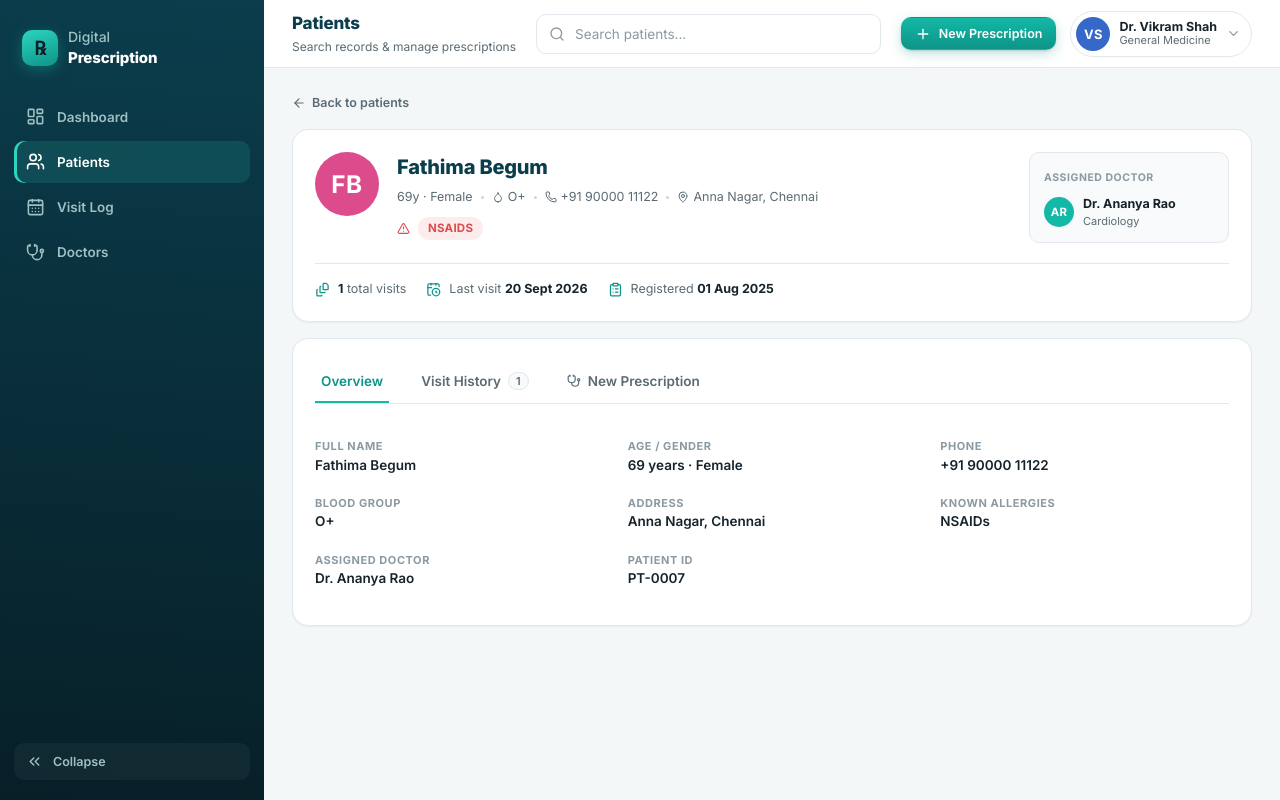
Test case: PatientDetailPage › validates the prescription before saving
Click the tab "New Prescription".
click(633, 382)  # box [561,360,706,402]
(page scrolled)
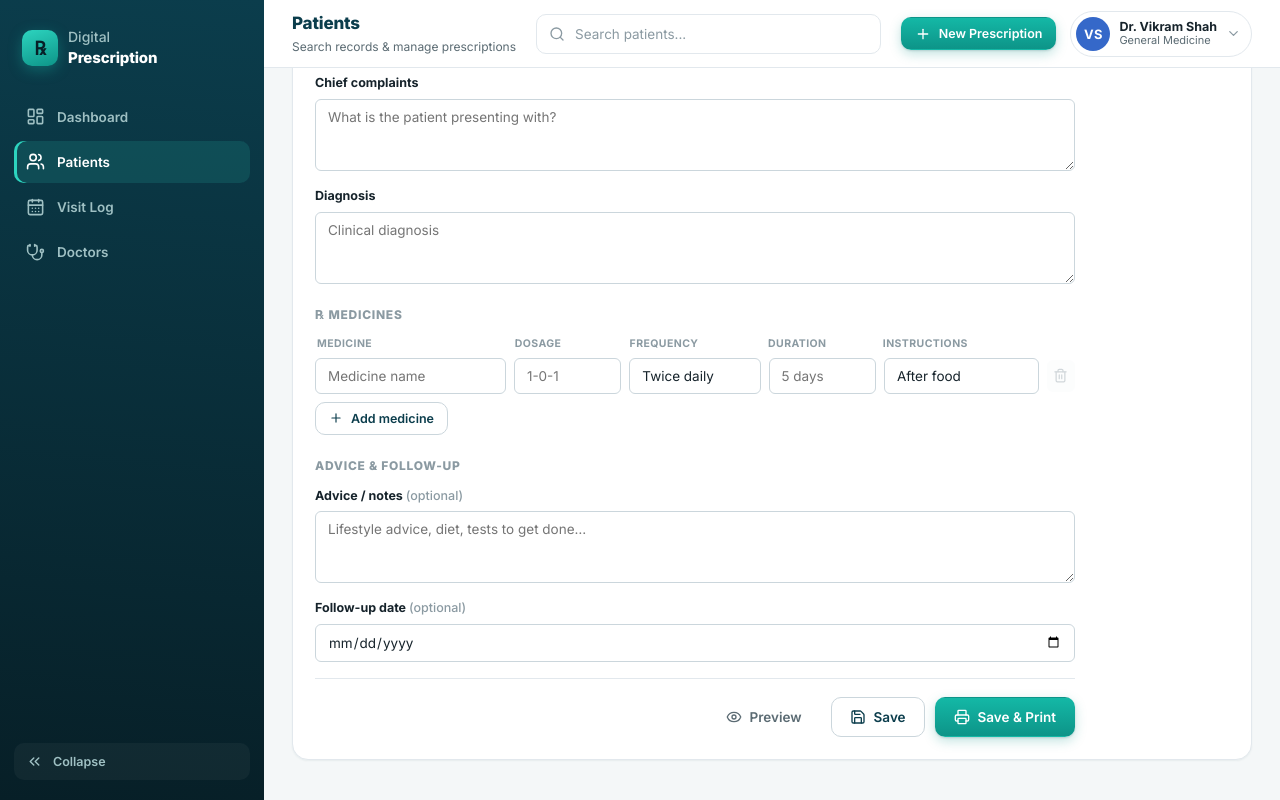
Click the button "Save".
click(878, 717)  # box [831,697,925,737]
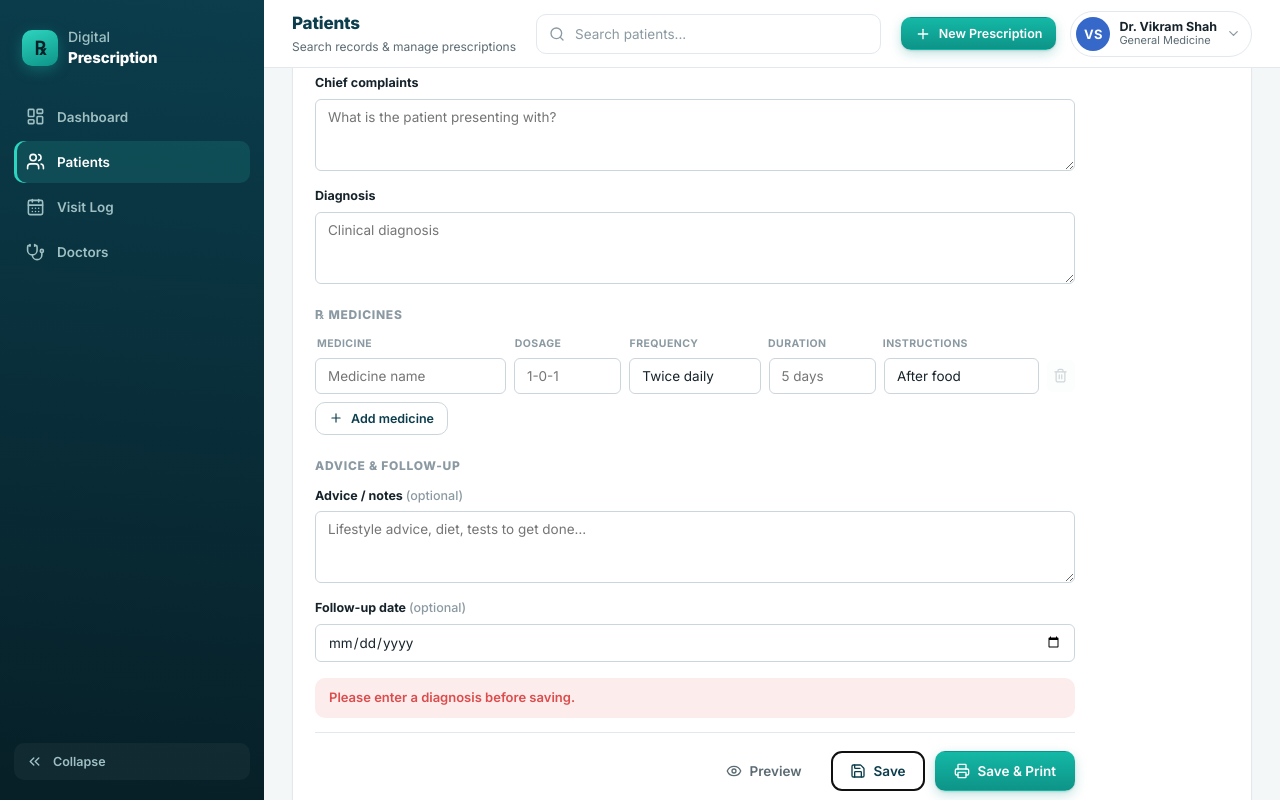
Now the message shows "Please enter a diagnosis", box [329,689,575,705]
Type "Viral fever" into the text box labelled "Diagnosis".
click(695, 248); type("Viral fever")  # box [315,212,1075,284]
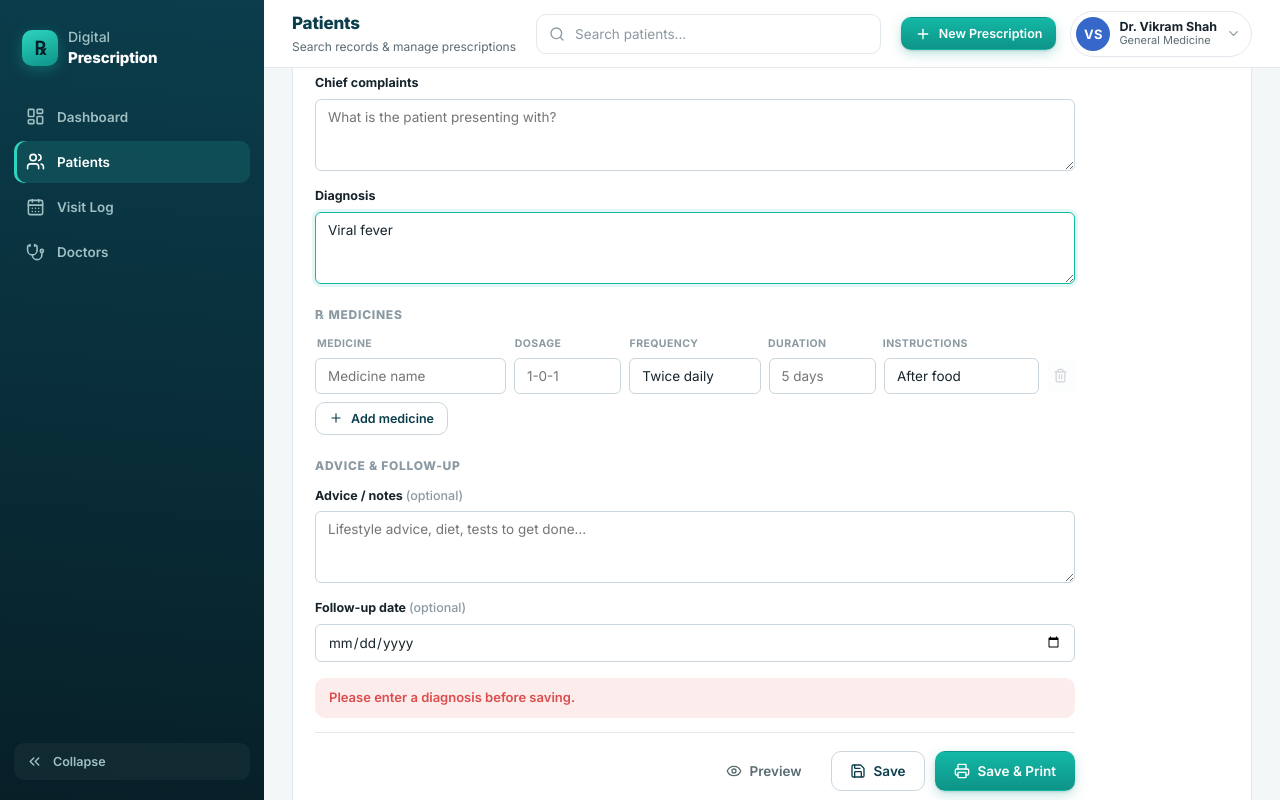
Click the button "Save".
click(878, 770)  # box [831,750,925,790]
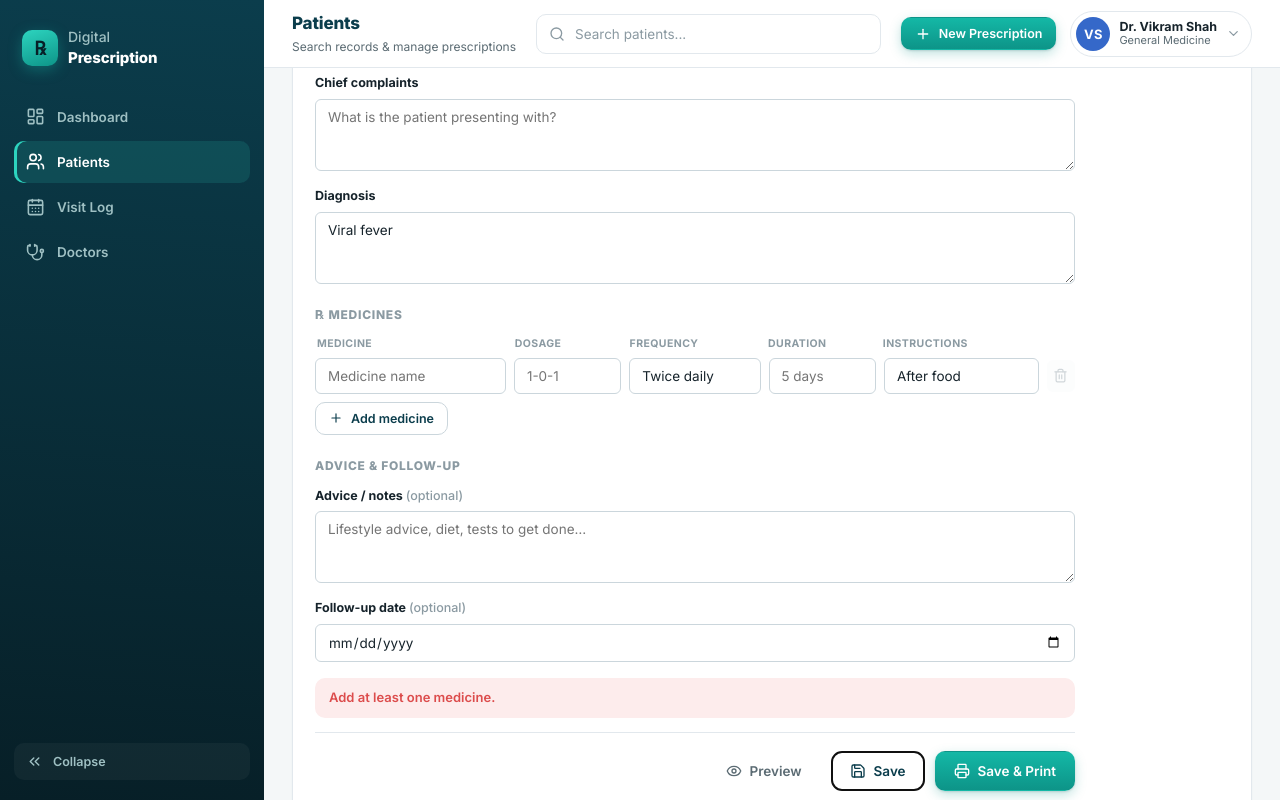
Now the message reads "Add at least one medicine.", box [329,689,495,705]
